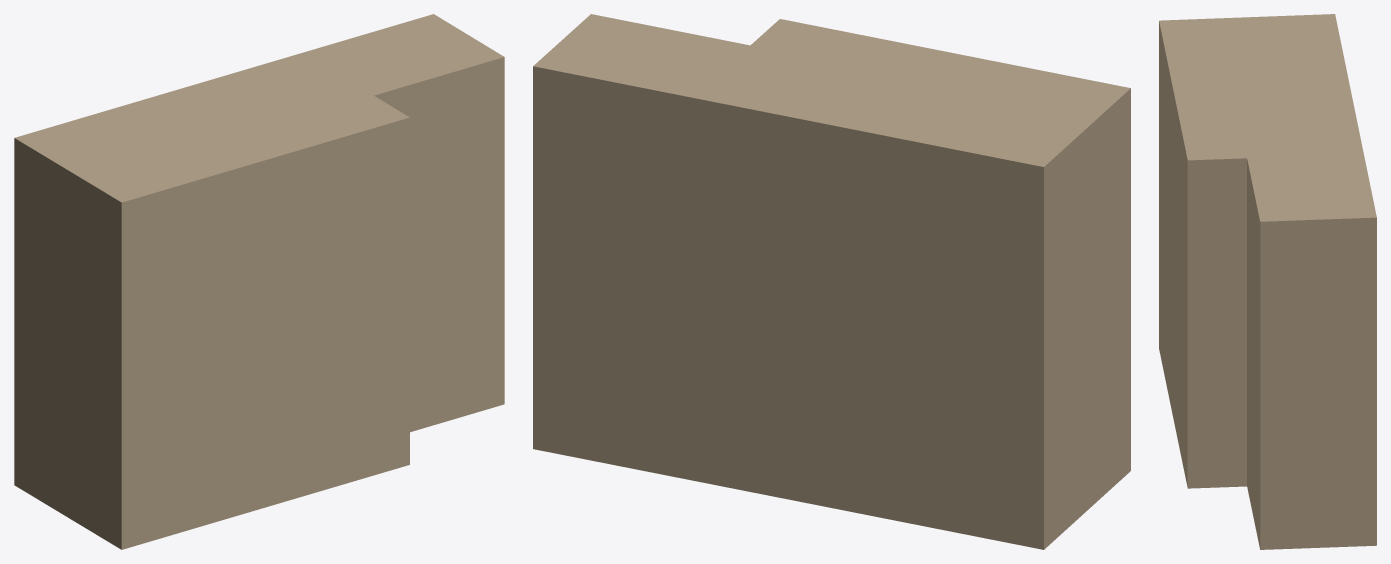
Rendered from bld_101572470.dae.
3 renders of one model, left to right at view 1: azimuth 30°, elevation 25°; view 2: azimuth 150°, elevation 25°; view 3: azimuth 270°, elevation 25°, orthographic. The views are drawn at different scales.
Visible parts, largest first — view 1: bld_101572470; view 2: bld_101572470; view 3: bld_101572470.
Boxes of the visible parts, bbox=[...] form: bld_101572470: bbox=[14, 14, 504, 549]; bld_101572470: bbox=[533, 14, 1130, 549]; bld_101572470: bbox=[1159, 14, 1376, 549].
Size of the model in its own units: 10.86 by 4.81 by 8.
